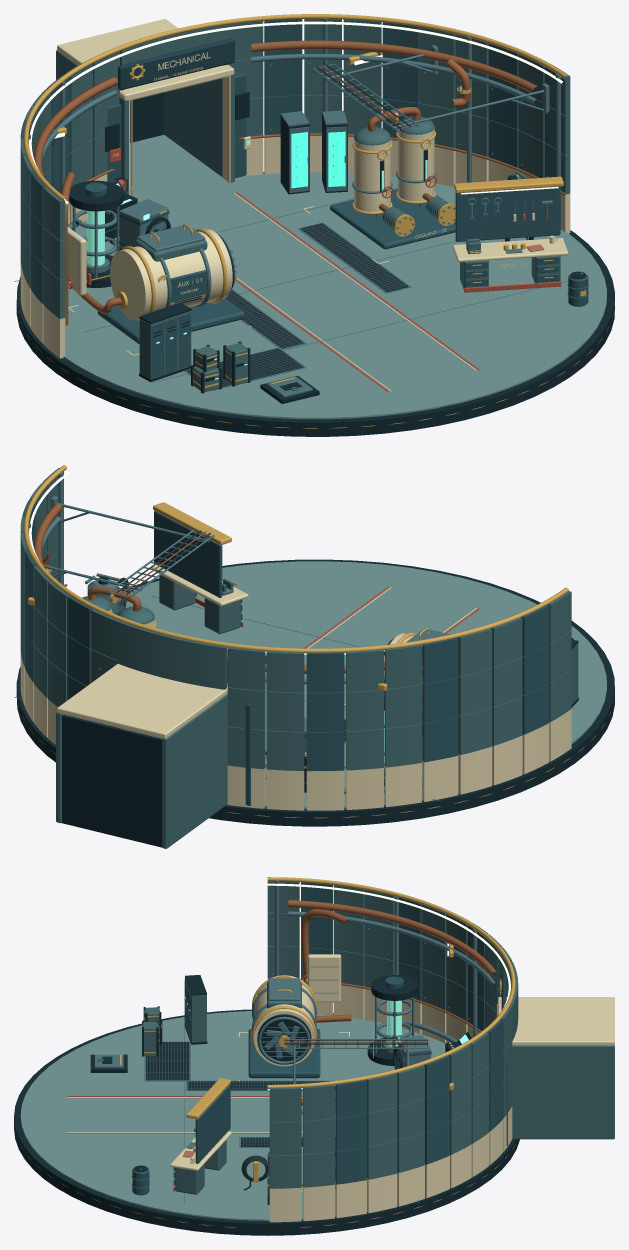
Rendered from starling-mechanical.glb.
3 views of the same model, one above another, from view 1: azimuth 30°, elevation 25°; view 2: azimuth 150°, elevation 25°; view 3: azimuth 270°, elevation 25° (orthographic). The views are drawn at different scales.
Visible parts, largest first — view 1: Deck / level steel floor, Hull / curved teal panel (×38), Hull / low circular foundation, Services / curved overhead pipe (×4), Entrance / corridor side (×2), Generator / cream motor barrel, Bench / teal pegboard, Coolant / cream filtration vessel (×2), Entrance / clear corridor floor, Deck / grating recess (×3), Hull / cream lower service panel (×5), Entrance / corridor ceiling (+34 smaller); view 2: Hull / curved teal panel (×39), Deck / level steel floor, Hull / cream lower service panel (×11), Entrance / corridor distant shadow, Hull / low circular foundation, Entrance / corridor side (×2), Entrance / corridor ceiling, Entrance / curved transom, Bench / teal pegboard, Hull / upper trim (×2), Bench / drawer pedestal (×2), Bench / overhead task light (+5 smaller); view 3: Hull / curved teal panel (×43), Deck / level steel floor, Entrance / corridor side, Hull / cream lower service panel (×10), Hull / low circular foundation, Entrance / corridor ceiling, Services / curved overhead pipe (×2), Hull / upper trim (×2), Deck / grating recess (×2), Generator / low vibration skid, Bench / teal pegboard, Electrical / cream panel enclosure (+13 smaller).
Part boxes in pixels (<box>): Deck / level steel floor: <box>63,172,606,419</box>; Hull / curved teal panel (×38): <box>30,19,570,318</box>; Hull / low circular foundation: <box>16,172,614,436</box>; Services / curved overhead pipe (×4): <box>33,40,537,208</box>; Entrance / corridor side (×2): <box>56,50,234,194</box>; Generator / cream motor barrel: <box>110,229,232,320</box>; Bench / teal pegboard: <box>455,186,560,241</box>; Coolant / cream filtration vessel (×2): <box>354,127,434,211</box>; Entrance / clear corridor floor: <box>130,135,227,202</box>; Deck / grating recess (×3): <box>187,223,408,387</box>; Hull / cream lower service panel (×5): <box>43,134,488,358</box>; Entrance / corridor ceiling: <box>57,19,233,99</box>; Hull / curved teal panel (×39): <box>33,565,571,771</box>; Deck / level steel floor: <box>119,561,606,808</box>; Hull / cream lower service panel (×11): <box>33,683,571,810</box>; Entrance / corridor distant shadow: <box>61,715,161,847</box>; Hull / low circular foundation: <box>16,559,614,826</box>; Entrance / corridor side (×2): <box>56,694,227,848</box>; Entrance / corridor ceiling: <box>57,664,227,738</box>; Entrance / curved transom: <box>117,621,227,689</box>; Bench / teal pegboard: <box>154,510,222,597</box>; Hull / upper trim (×2): <box>23,465,568,653</box>; Bench / drawer pedestal (×2): <box>159,575,240,634</box>; Bench / overhead task light: <box>153,502,231,545</box>; Hull / curved teal panel (×43): <box>267,881,502,1188</box>; Deck / level steel floor: <box>20,1011,445,1220</box>; Entrance / corridor side: <box>512,1045,614,1139</box>; Hull / cream lower service panel (×10): <box>269,985,489,1222</box>; Hull / low circular foundation: <box>14,1009,519,1235</box>; Entrance / corridor ceiling: <box>498,997,614,1045</box>; Services / curved overhead pipe (×2): <box>288,900,496,986</box>; Hull / upper trim (×2): <box>267,877,509,1088</box>; Deck / grating recess (×2): <box>146,1042,335,1090</box>; Generator / low vibration skid: <box>248,1028,320,1078</box>; Bench / teal pegboard: <box>195,1084,230,1163</box>; Electrical / cream panel enclosure: <box>307,954,341,1002</box>.
Bounding box in the file's own units: 15.2 × 4.88 × 18.
